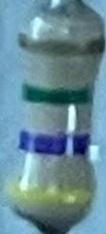Blue: (21, 129, 90, 155)
Green: (22, 81, 93, 104)
Side-Silver: (21, 32, 105, 58)
Yellow: (9, 176, 93, 211)
